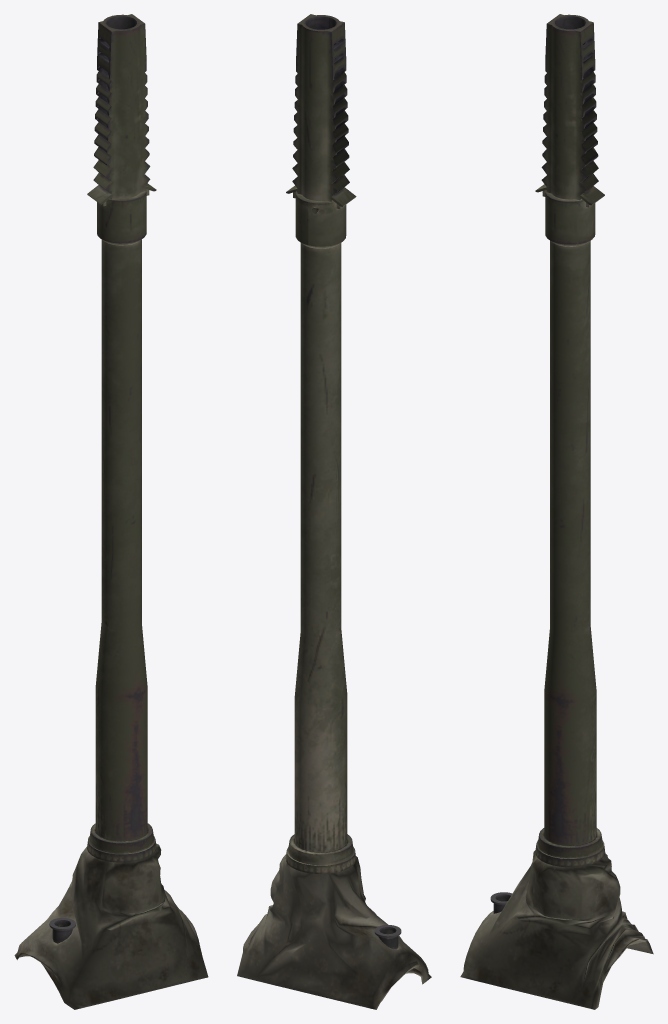
Rendered from Gun_01.glb.
3 views of the same model, side by side, from view 1: azimuth 30°, elevation 25°; view 2: azimuth 150°, elevation 25°; view 3: azimuth 330°, elevation 25° (orthographic).
Visible parts, largest first — view 1: set_0_group_0; view 2: set_0_group_0; view 3: set_0_group_0.
Part boxes in pixels (box(x1,y1,x2,y2)): set_0_group_0: box(14, 14, 208, 1009); set_0_group_0: box(237, 14, 431, 1009); set_0_group_0: box(460, 14, 653, 1009).
Size of the model in its own units: 0.8875 by 5.55 by 0.6326.
1 material, 1 textured.
